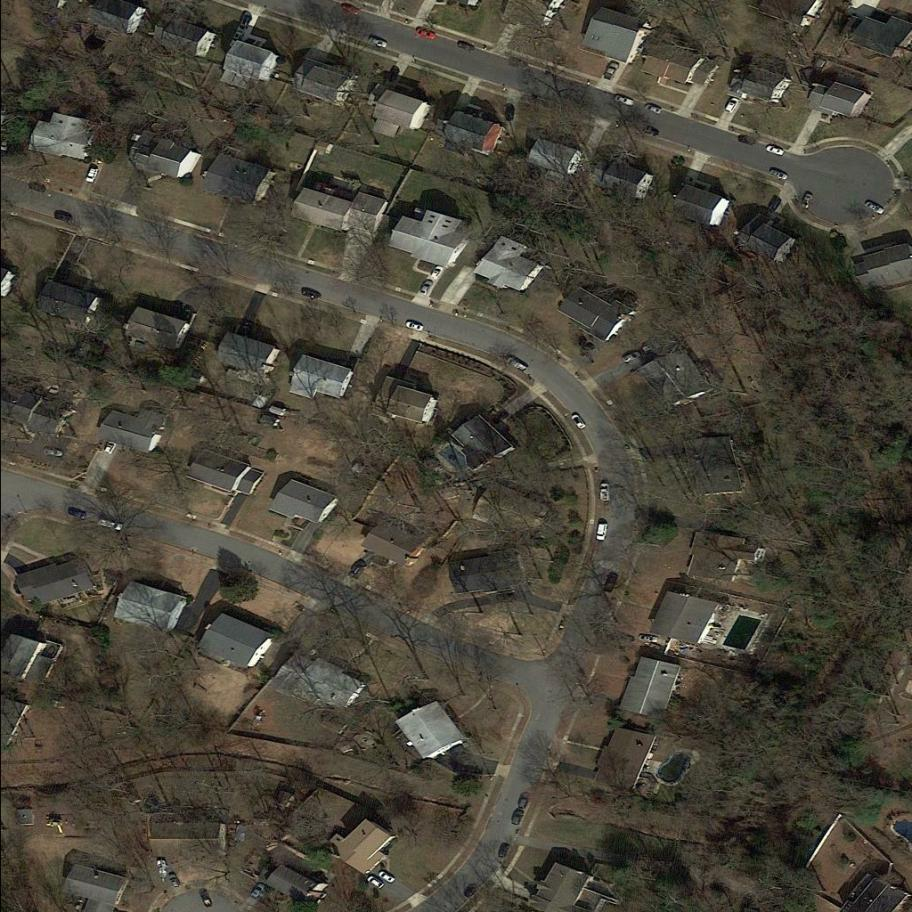small-vehicle: (502, 353, 529, 375), (95, 515, 125, 534), (346, 558, 370, 581), (602, 58, 623, 83), (863, 200, 888, 219), (601, 571, 620, 596), (568, 411, 589, 433), (415, 24, 438, 44), (64, 504, 89, 522), (766, 194, 785, 217), (454, 39, 477, 58), (798, 190, 816, 214), (613, 91, 637, 109), (417, 278, 435, 300), (340, 1, 362, 19), (366, 873, 386, 892), (227, 30, 244, 52), (238, 10, 255, 32), (27, 179, 49, 196), (405, 318, 428, 334), (735, 133, 759, 148), (298, 287, 322, 302), (428, 263, 446, 283), (378, 868, 398, 886), (723, 95, 740, 116), (496, 840, 513, 861), (387, 64, 403, 86), (768, 167, 791, 182), (249, 882, 267, 901), (644, 101, 664, 118), (369, 37, 391, 52), (53, 209, 75, 224), (766, 143, 786, 159), (84, 165, 100, 185), (509, 807, 525, 827), (102, 438, 118, 457), (622, 349, 642, 364), (517, 789, 531, 810), (643, 124, 661, 140), (599, 483, 612, 504), (199, 889, 213, 908), (638, 634, 660, 646), (504, 103, 517, 123), (464, 882, 478, 900), (168, 873, 181, 892), (597, 524, 609, 543), (41, 446, 63, 456)
